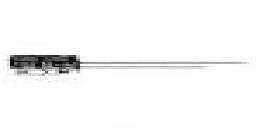Electrolytic-Capacitor: (6, 54, 249, 76)
